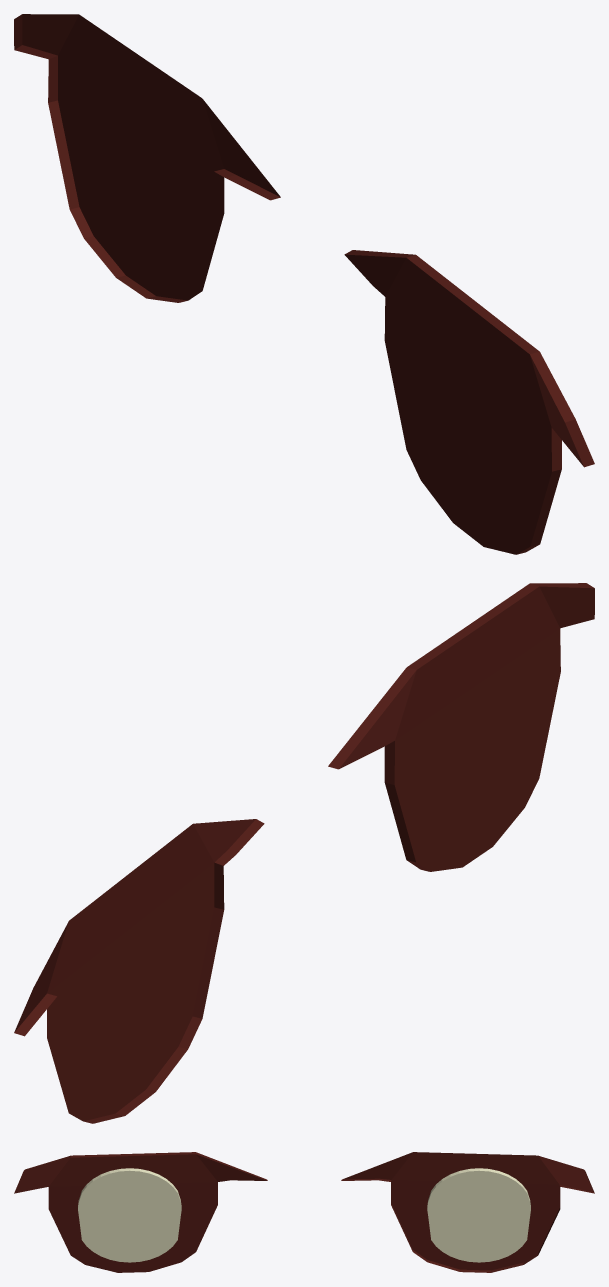
Rendered from AngeloEyes.glb.
3 views of the same model, one above another, from view 1: azimuth 30°, elevation 25°; view 2: azimuth 150°, elevation 25°; view 3: azimuth 270°, elevation 25° (orthographic). The views are drawn at different scales.
Visible parts, largest first — view 1: AngeloEyes; view 2: AngeloEyes; view 3: AngeloEyes.
Part boxes in pixels (x1,y1,x2,y2): AngeloEyes: [14, 14, 594, 554]; AngeloEyes: [14, 583, 594, 1123]; AngeloEyes: [14, 1152, 594, 1272].
Size of the model in its own units: 0.1659 by 0.8364 by 3.72.
